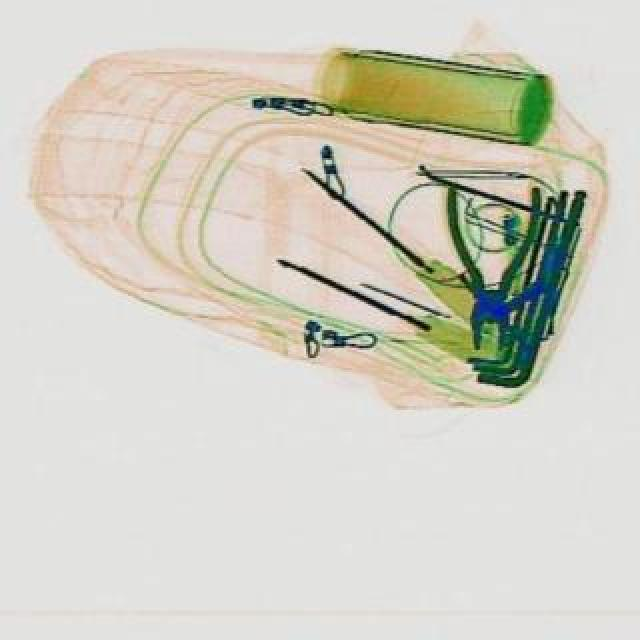wrench: (440, 182, 540, 352)
